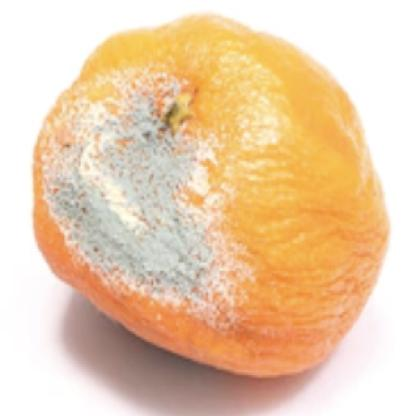rotten: (33, 12, 390, 377)
